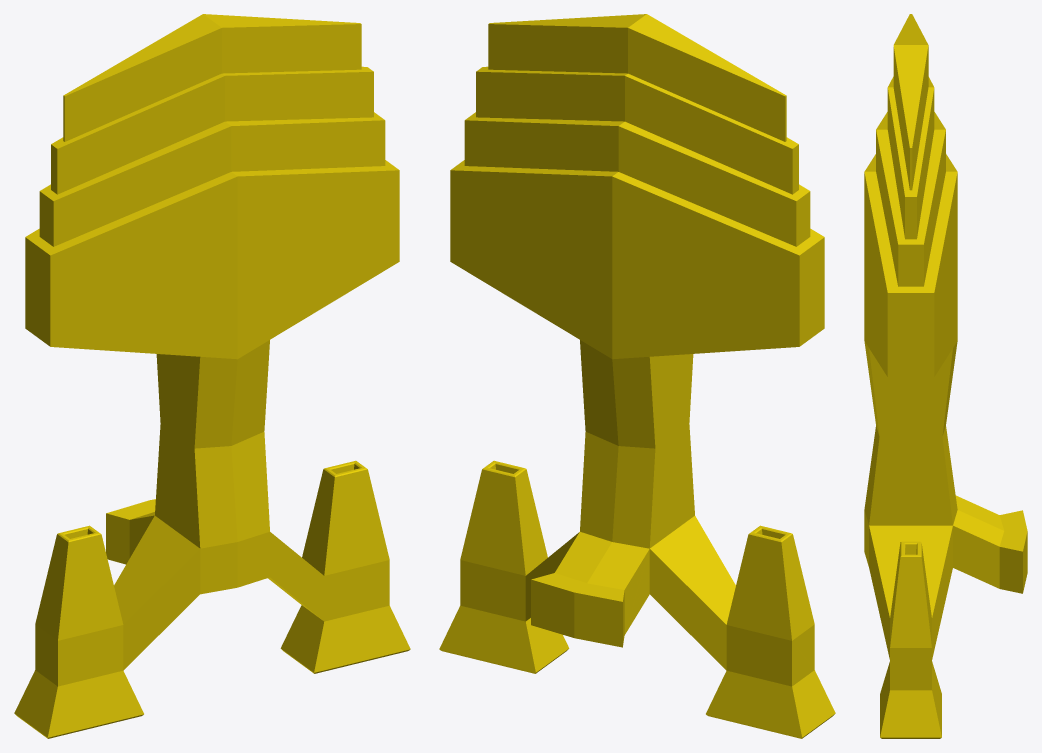
Rendered from carrier.fbx.
The picture shows the model from 3 angles, left to right: view 1: azimuth 30°, elevation 25°; view 2: azimuth 150°, elevation 25°; view 3: azimuth 270°, elevation 25°; orthographic projection. The views are drawn at different scales.
Parts seen in each view (by area): view 1: Cube; view 2: Cube; view 3: Cube.
Boxes of the visible parts, x1,y1,x2,y2 form: Cube: (14, 14, 410, 738); Cube: (439, 14, 835, 738); Cube: (864, 14, 1027, 738).
Bounding box in the file's own units: 83142 × 145000 × 35000.
